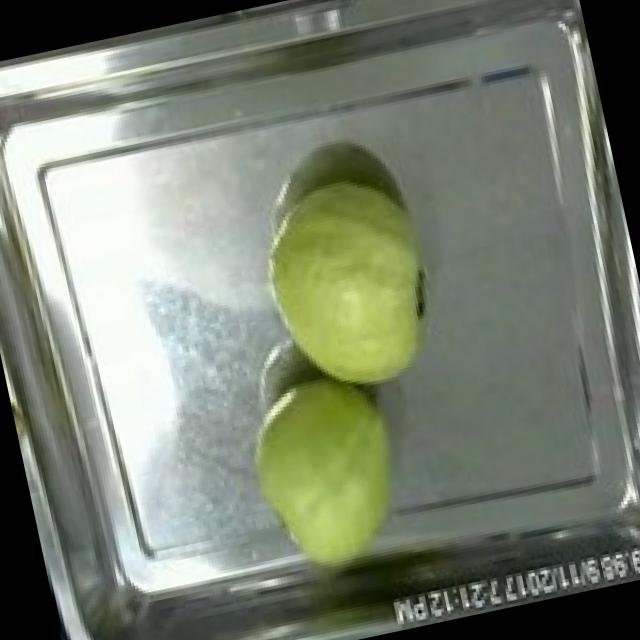Fruit: (240, 156, 460, 412), (227, 355, 428, 583)
